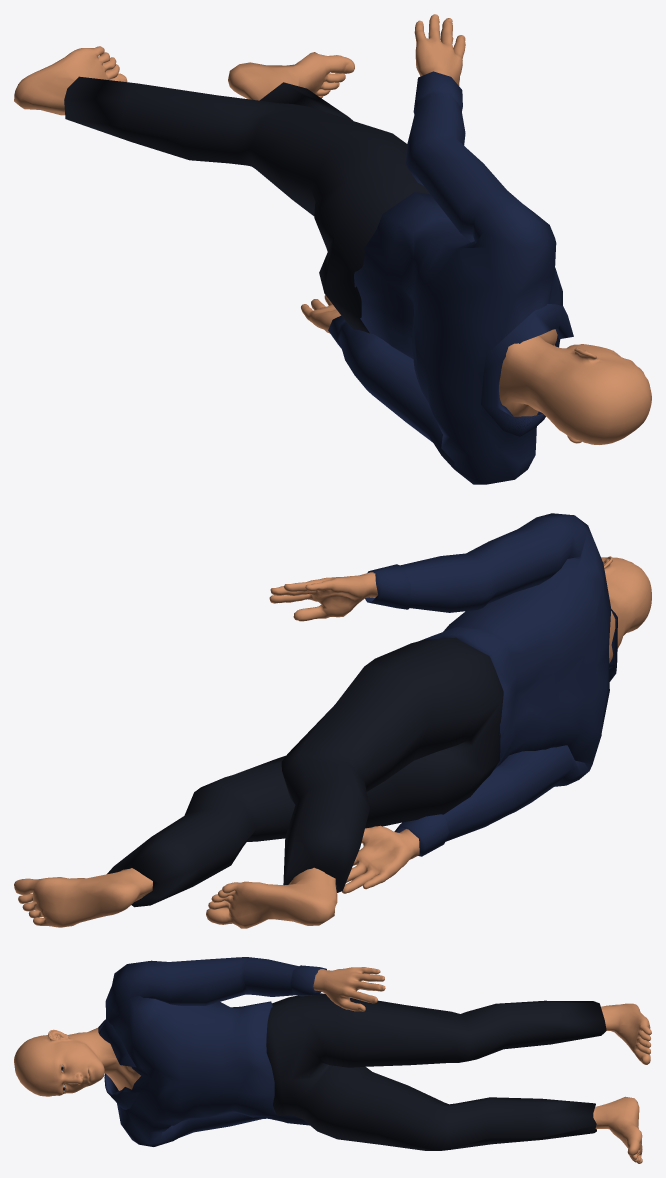
Rendered from walk.obj.
The picture shows the model from 3 angles, top to bottom: view 1: azimuth 30°, elevation 25°; view 2: azimuth 150°, elevation 25°; view 3: azimuth 270°, elevation 25°; orthographic projection. The views are drawn at different scales.
Size of the model in its own units: 0.6827 by 0.5957 by 1.67.
